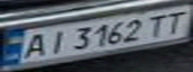1: (90, 20, 112, 48)
2: (121, 16, 151, 43)
3: (69, 24, 93, 52)
6: (106, 18, 130, 46)
A: (15, 30, 51, 61)
I: (42, 27, 72, 56)
T: (160, 7, 193, 35), (142, 11, 172, 38)
